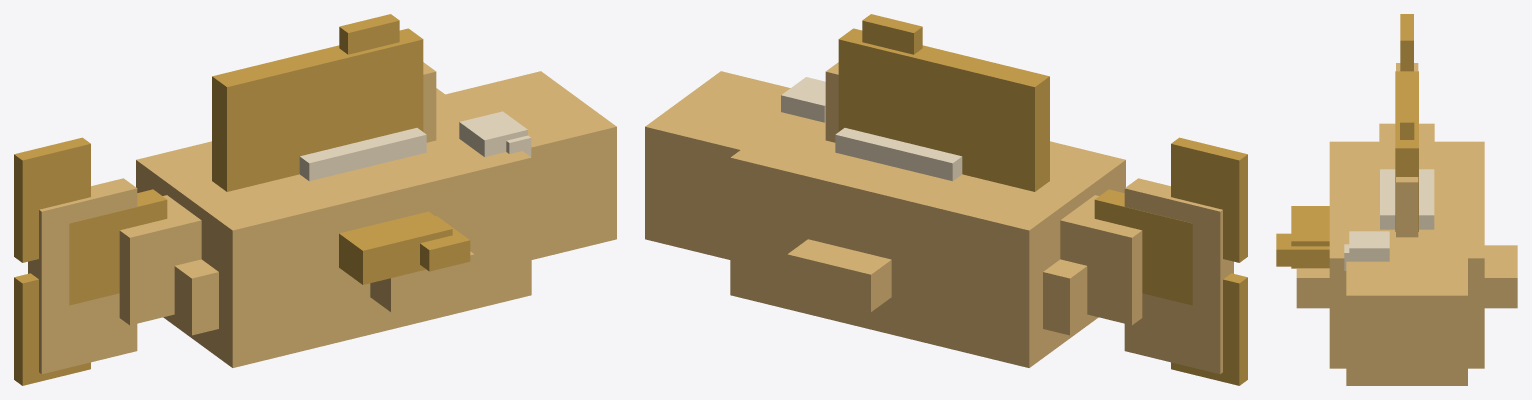
File: fish_lantern_scad.glb
The picture shows the model from 3 angles, left to right: view 1: azimuth 30°, elevation 25°; view 2: azimuth 150°, elevation 25°; view 3: azimuth 270°, elevation 25°; orthographic projection. The views are drawn at different scales.
Visible parts, largest first — view 1: FishArt_body, FishArt_dorsal, FishArt_tail, FishArt_pectoral, FishArt_specialty, FishArt_eye; view 2: FishArt_body, FishArt_dorsal, FishArt_tail, FishArt_specialty, FishArt_eye; view 3: FishArt_body, FishArt_pectoral, FishArt_dorsal, FishArt_specialty, FishArt_eye, FishArt_tail.
Part boxes in pixels (bbox=[...]): FishArt_body: bbox=[28, 62, 616, 374]; FishArt_dorsal: bbox=[212, 14, 423, 191]; FishArt_tail: bbox=[14, 137, 167, 385]; FishArt_pectoral: bbox=[339, 211, 470, 284]; FishArt_specialty: bbox=[299, 128, 426, 181]; FishArt_eye: bbox=[459, 111, 531, 156]; FishArt_body: bbox=[645, 62, 1233, 374]; FishArt_dorsal: bbox=[838, 14, 1049, 191]; FishArt_tail: bbox=[1094, 137, 1247, 385]; FishArt_specialty: bbox=[835, 128, 962, 181]; FishArt_eye: bbox=[781, 77, 825, 122]; FishArt_body: bbox=[1296, 63, 1517, 385]; FishArt_pectoral: bbox=[1276, 206, 1329, 268]; FishArt_dorsal: bbox=[1395, 71, 1418, 231]; FishArt_specialty: bbox=[1380, 169, 1434, 229]; FishArt_eye: bbox=[1344, 231, 1389, 270]; FishArt_tail: bbox=[1400, 14, 1413, 71].
Size of the model in its own units: 0.3091 by 0.1442 by 0.1439.
